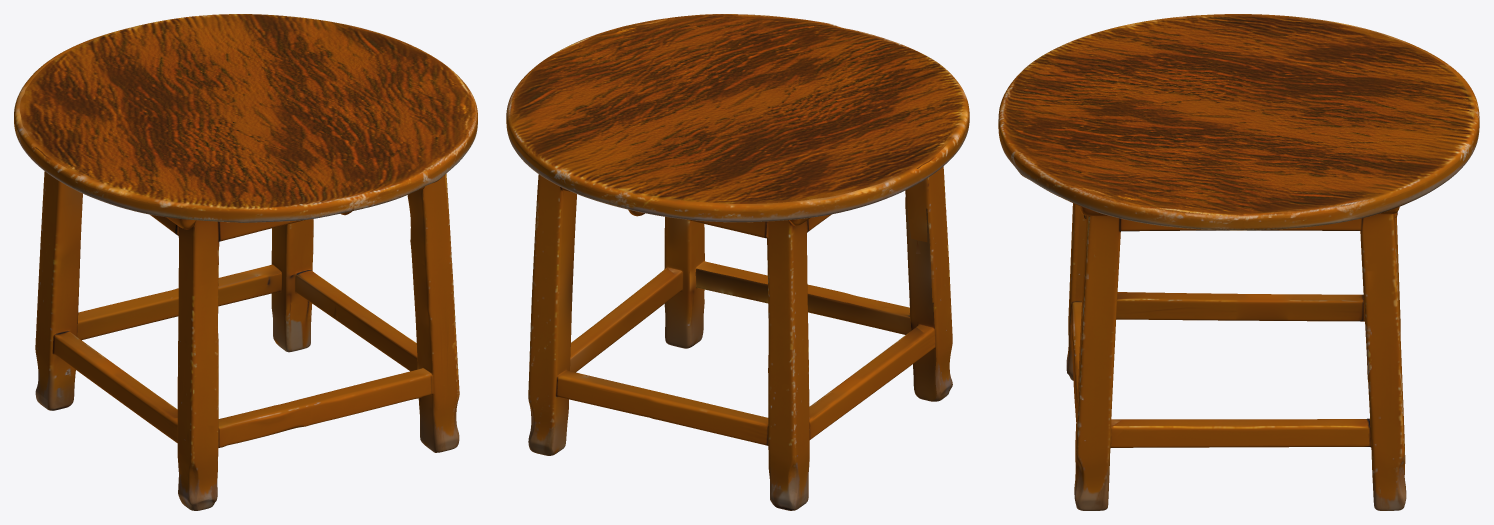
The model's file is SM_DiningTable.fbx.
The picture shows the model from 3 angles, left to right: view 1: azimuth 30°, elevation 25°; view 2: azimuth 150°, elevation 25°; view 3: azimuth 270°, elevation 25°; orthographic projection. The views are drawn at different scales.
Visible parts, largest first — view 1: texture_pbr_v128; view 2: texture_pbr_v128; view 3: texture_pbr_v128.
Boxes of the visible parts, x1,y1,x2,y2 form: texture_pbr_v128: (14, 14, 477, 510); texture_pbr_v128: (506, 14, 969, 510); texture_pbr_v128: (998, 14, 1479, 510).
Size of the model in its own units: 95.54 by 72.99 by 95.56.
Materials: 1 (1 with a texture image).
